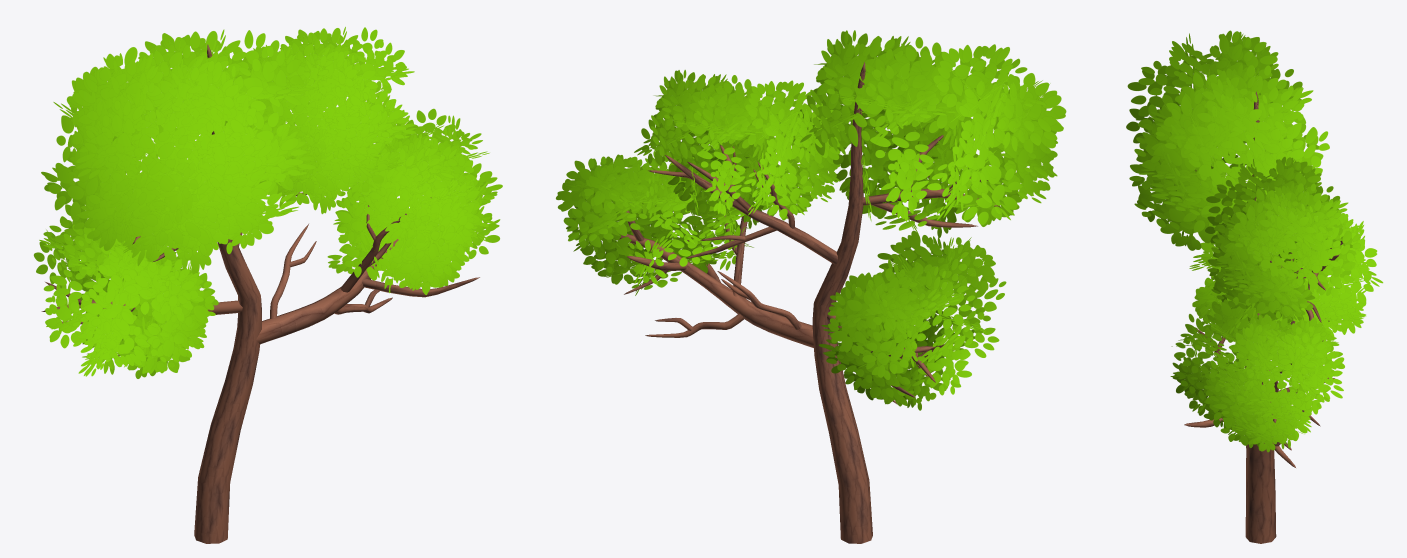
The model's file is TreeMain3.glb.
The picture shows the model from 3 angles, left to right: view 1: azimuth 30°, elevation 25°; view 2: azimuth 150°, elevation 25°; view 3: azimuth 270°, elevation 25°; orthographic projection. The views are drawn at different scales.
Parts seen in each view (by area): view 1: NormalTree_3; view 2: NormalTree_3; view 3: NormalTree_3.
Part boxes in pixels (box(x1,y1,x2,y2)): NormalTree_3: box(33, 27, 502, 543); NormalTree_3: box(556, 30, 1066, 543); NormalTree_3: box(1126, 30, 1383, 543).
Bounding box in the file's own units: 5.04 × 5.28 × 2.88.
2 materials, 2 textured.
